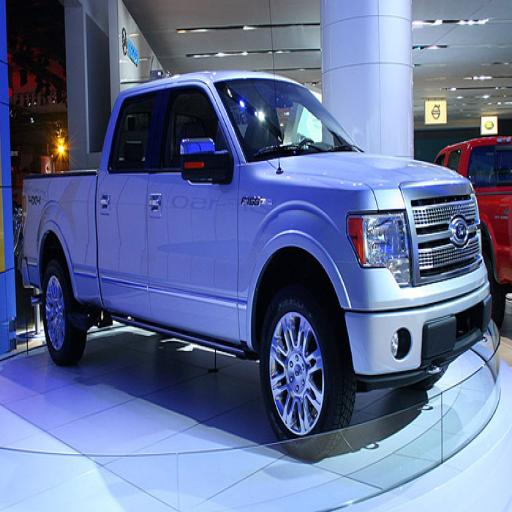pickup: (21, 72, 490, 438)
